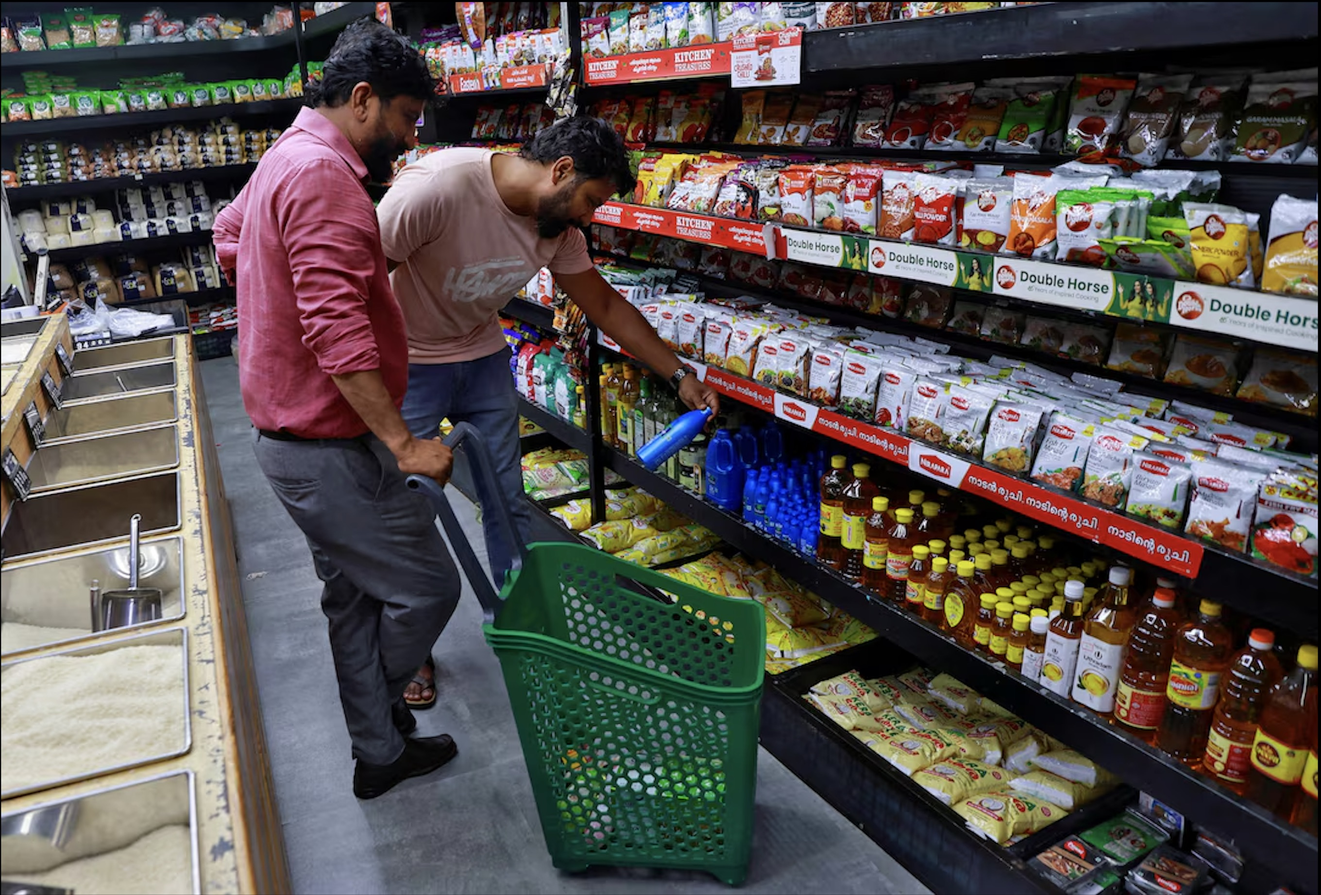parachute: (666, 388, 862, 560)
